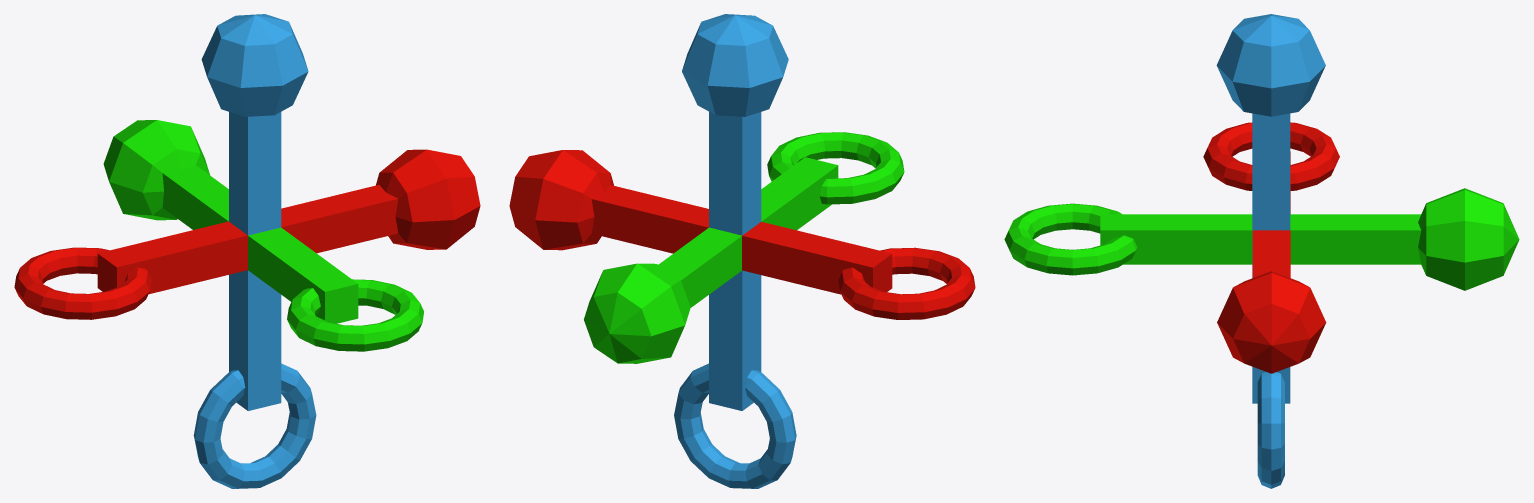
The model's file is axis.glb.
3 renders of one model, left to right at view 1: azimuth 30°, elevation 25°; view 2: azimuth 150°, elevation 25°; view 3: azimuth 270°, elevation 25°, orthographic.
Parts seen in each view (by area): view 1: Z, X, Y; view 2: Z, X, Y; view 3: Y, Z, X.
Boxes of the visible parts, x1,y1,x2,y2 form: Z: [193, 14, 316, 488]; X: [14, 149, 480, 319]; Y: [103, 120, 423, 351]; Z: [674, 14, 796, 488]; X: [509, 150, 975, 319]; Y: [584, 132, 904, 363]; Y: [1004, 188, 1519, 290]; Z: [1216, 14, 1325, 488]; X: [1203, 122, 1339, 373].
Size of the model in its own units: 9.42 by 9.42 by 9.42.
